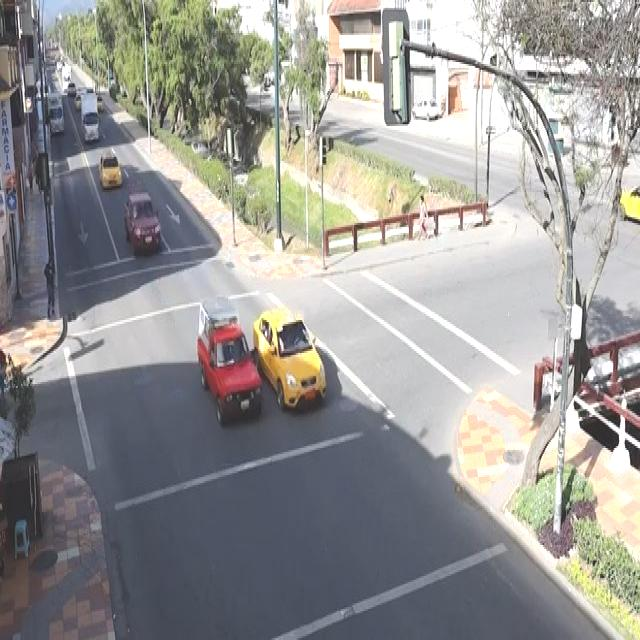CMT: (196, 306, 258, 424), (118, 188, 170, 254)
SED: (251, 305, 329, 412), (93, 148, 128, 191)
